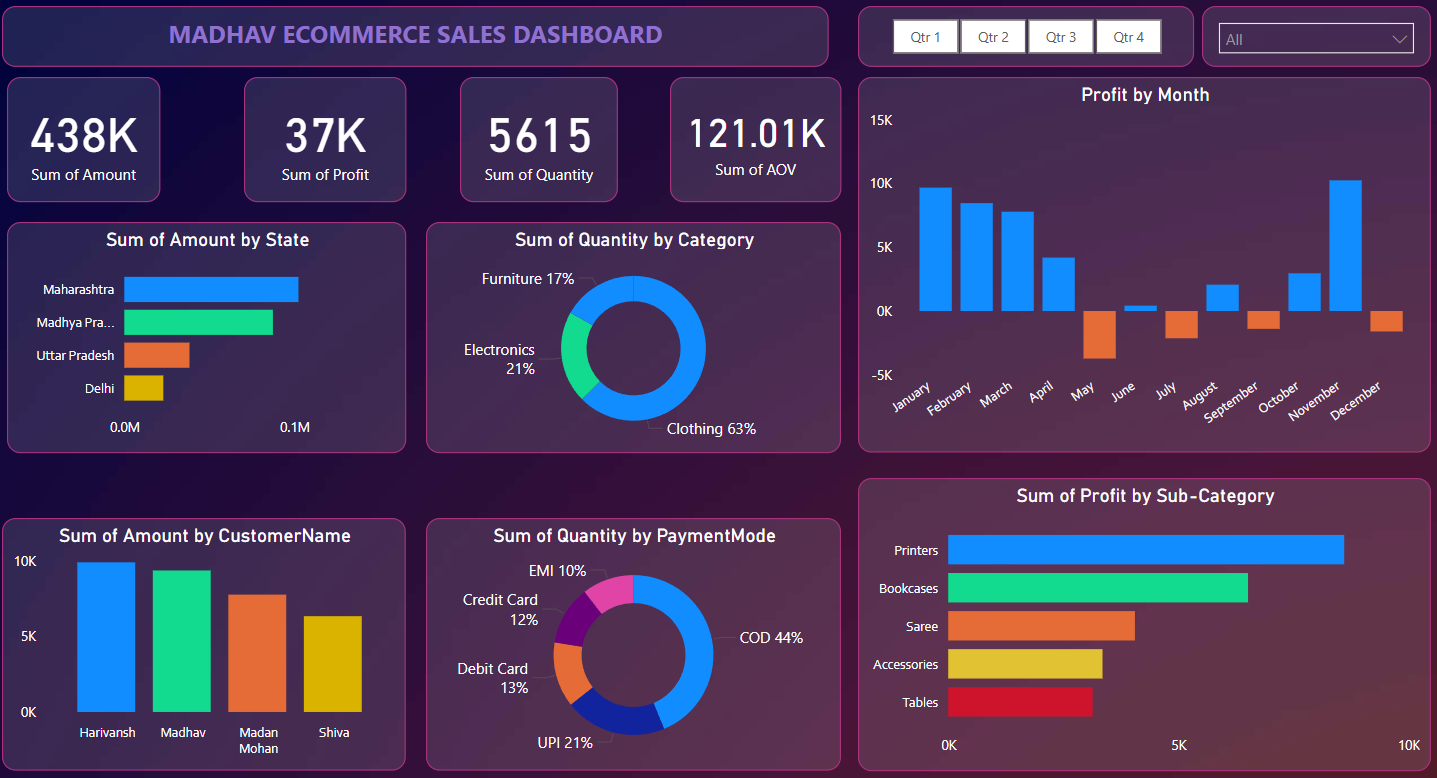

The dashboard page shown, as its layout file describes it:
{"tool":"powerbi","page":{"name":"Page 1","canvas":[1280,720],"ordinal":0},"visuals":[{"type":"textbox","box":[2,9,733,54],"z":0},{"type":"columnChart","title":"Profit by Month","fields":{"Category":["Orders.Order Date.Variation.Date Hierarchy.Month"],"Y":["Details.Profit"]},"box":[761,72,508,333],"z":1000},{"type":"barChart","fields":{"Category":["Details.Sub-Category"],"Y":["Details.Profit"]},"box":[761,427,508,260],"z":2000},{"type":"donutChart","fields":{"Category":["Details.Category"],"Y":["Details.Quantity"]},"box":[378,200,368,205],"z":3000},{"type":"donutChart","fields":{"Category":["Details.PaymentMode"],"Y":["Details.Quantity"]},"box":[378,463,368,224],"z":4000},{"type":"card","fields":{"Values":["Details.Amount"]},"box":[6,72,136,111],"z":5000},{"type":"card","fields":{"Values":["Details.Profit"]},"box":[216,72,144,111],"z":6000},{"type":"card","fields":{"Values":["Details.Quantity"]},"box":[408,72,140,111],"z":7000},{"type":"card","fields":{"Values":["Details.AOV"]},"box":[594,72,152,111],"z":8000},{"type":"barChart","fields":{"Category":["Orders.State"],"Y":["Details.Amount"]},"box":[6,200,354,205],"z":8001},{"type":"columnChart","fields":{"Y":["Details.Amount"],"Category":["Orders.CustomerName"]},"box":[2,463,358,224],"z":8002},{"type":"slicer","fields":{"Values":["Orders.Order Date.Variation.Date Hierarchy.Quarter"]},"box":[761,9,298,54],"z":8003},{"type":"slicer","fields":{"Values":["Orders.State"]},"box":[1066,9,203,54],"z":8004}]}

Visuals, with their boxes on the page's 1280x720 design canvas (x1, y1, x2, y2). These are canvas units, not pixel positions in the 1437x778 screenshot, which may show the page scaled, cropped or inside an application window:
textbox: box=[2, 9, 735, 63]
"Profit by Month" columnChart: box=[761, 72, 1269, 405]
barChart - Details.Sub-Category x Details.Profit: box=[761, 427, 1269, 687]
donutChart - Details.Category x Details.Quantity: box=[378, 200, 746, 405]
donutChart - Details.PaymentMode x Details.Quantity: box=[378, 463, 746, 687]
card - Details.Amount: box=[6, 72, 142, 183]
card - Details.Profit: box=[216, 72, 360, 183]
card - Details.Quantity: box=[408, 72, 548, 183]
card - Details.AOV: box=[594, 72, 746, 183]
barChart - Orders.State x Details.Amount: box=[6, 200, 360, 405]
columnChart - Details.Amount x Orders.CustomerName: box=[2, 463, 360, 687]
slicer - Orders.Order Date.Variation.Date Hierarchy.Quarter: box=[761, 9, 1059, 63]
slicer - Orders.State: box=[1066, 9, 1269, 63]
